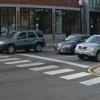Crosswalk: (14, 50, 100, 97)
